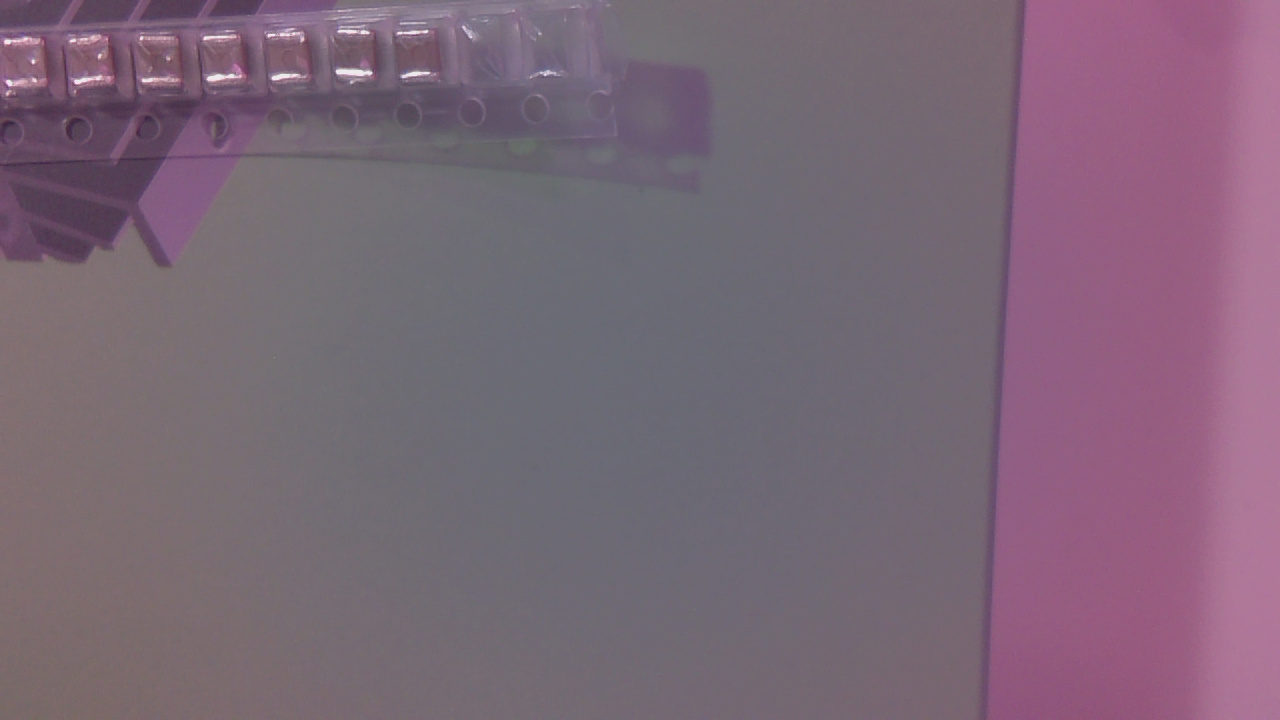Condensator: (204, 33, 249, 98), (72, 32, 117, 97), (271, 31, 314, 97), (398, 30, 442, 92), (10, 39, 54, 101), (143, 35, 182, 99), (337, 33, 381, 86)
